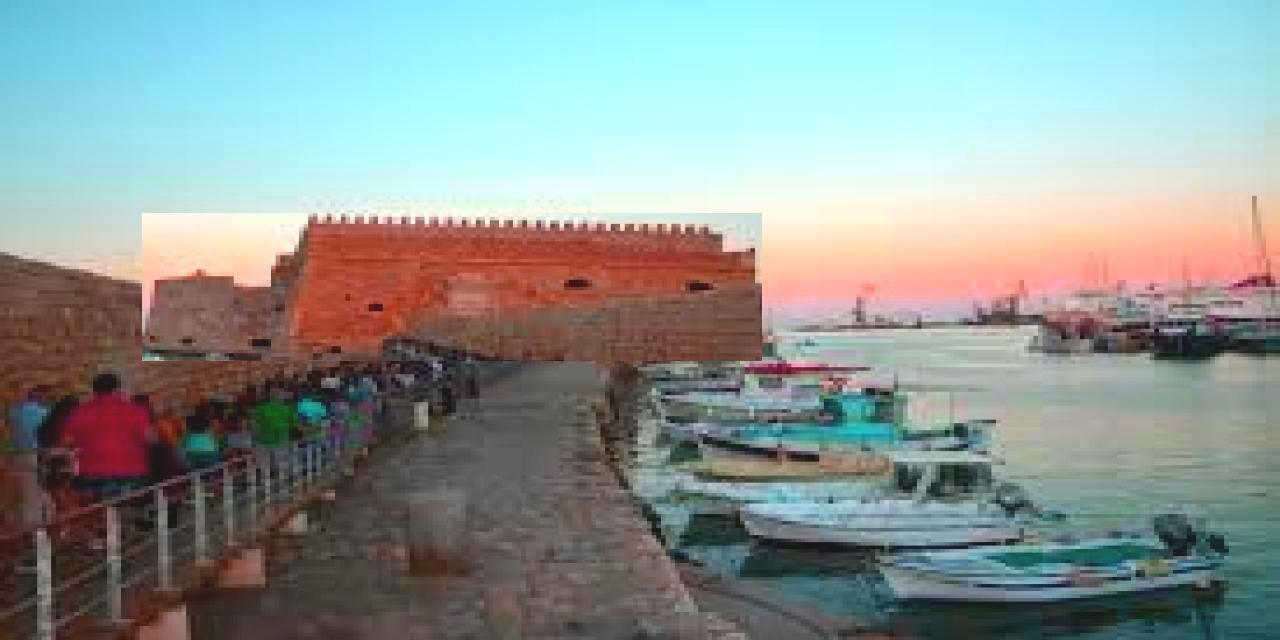Kules: (143, 214, 763, 362)
